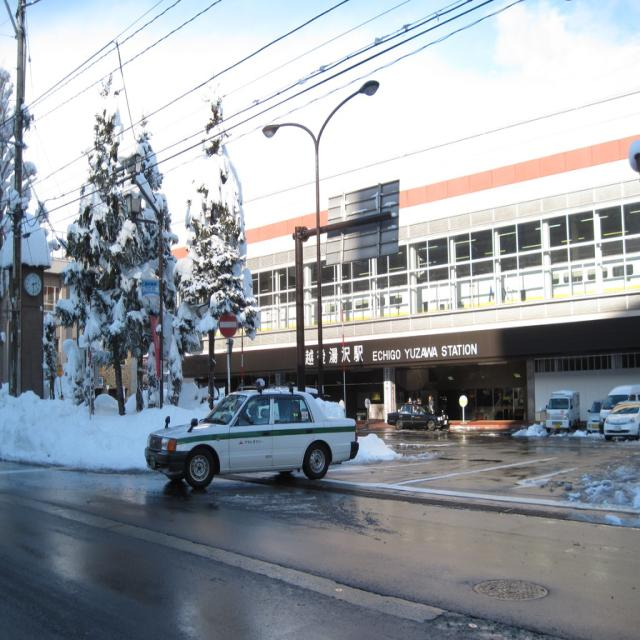car: (142, 382, 358, 491), (384, 402, 439, 428)
